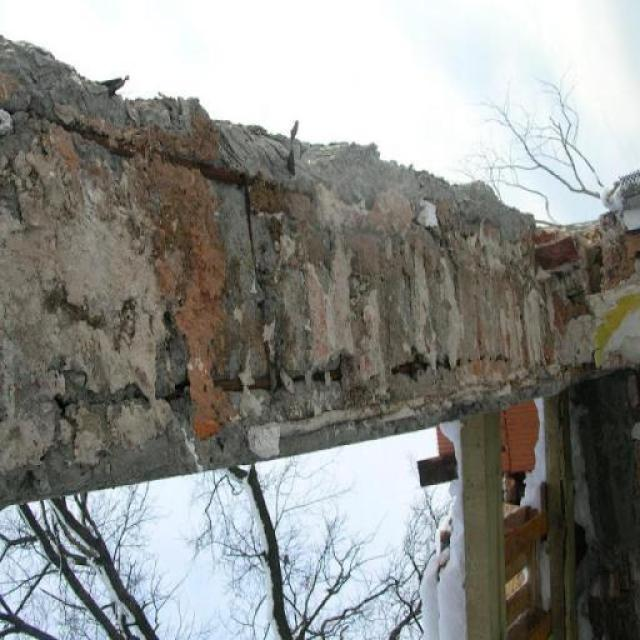D10: (0, 39, 639, 505)
